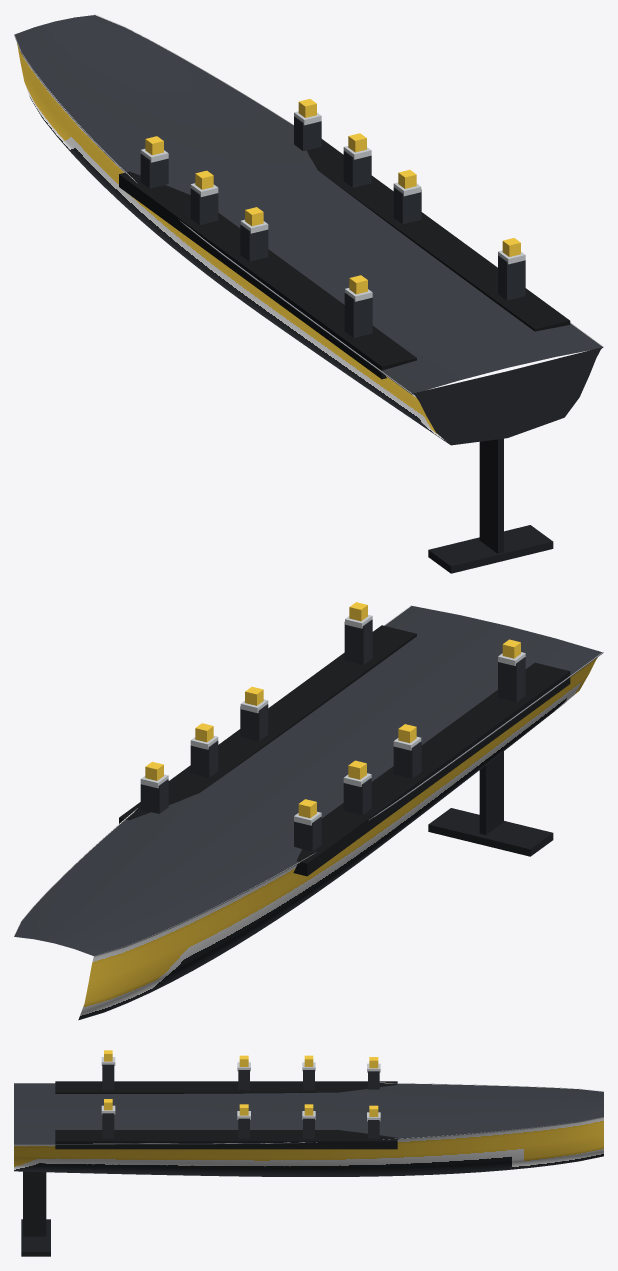
Rendered from hull_0.glb.
3 views of the same model, one above another, from view 1: azimuth 30°, elevation 25°; view 2: azimuth 150°, elevation 25°; view 3: azimuth 270°, elevation 25° (orthographic). The views are drawn at different scales.
Visible parts, largest first — view 1: hull_0_body; view 2: hull_0_body; view 3: hull_0_body.
Part boxes in pixels (<box>): hull_0_body: <box>14,14,603,573</box>; hull_0_body: <box>14,602,603,1020</box>; hull_0_body: <box>14,1050,603,1256</box>.
Size of the model in its own units: 4.9 by 6.13 by 20.
1 material, 1 textured.
